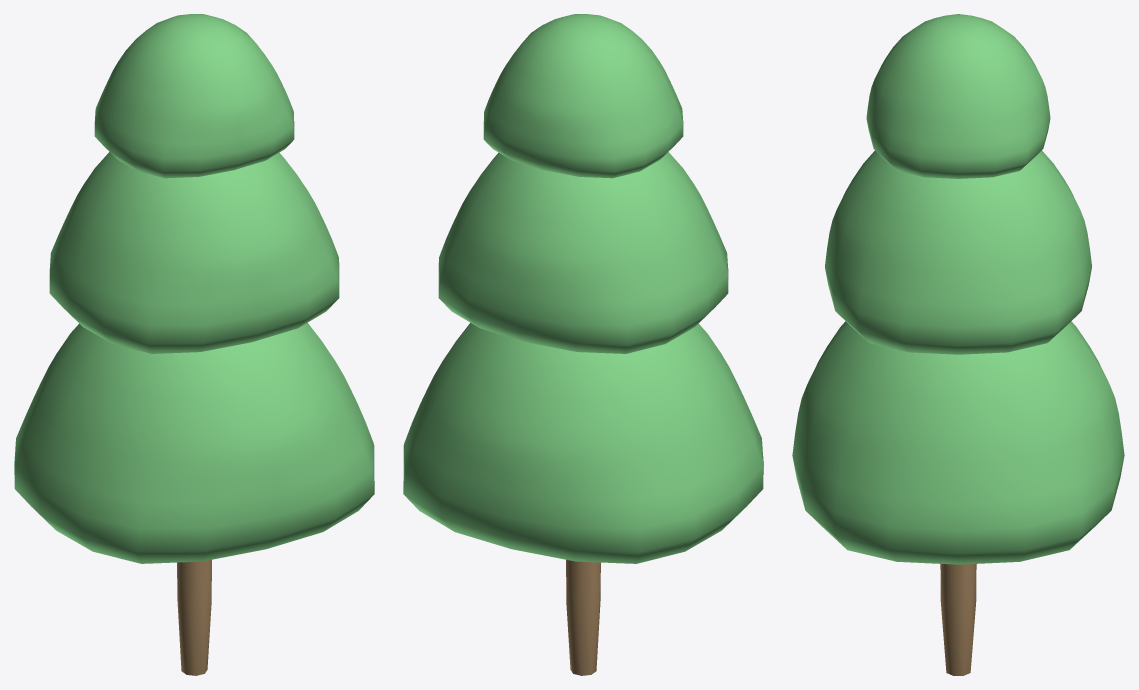
File: tree.fbx
3 renders of one model, left to right at view 1: azimuth 30°, elevation 25°; view 2: azimuth 150°, elevation 25°; view 3: azimuth 270°, elevation 25°, orthographic.
Visible parts, largest first — view 1: polySurface115; view 2: polySurface115; view 3: polySurface115.
Boxes of the visible parts, x1=… form: polySurface115: x1=14, y1=14, x2=374, y2=675; polySurface115: x1=403, y1=14, x2=763, y2=675; polySurface115: x1=792, y1=14, x2=1124, y2=675.
Bounding box in the file's own units: 99.54 × 200 × 92.68.
